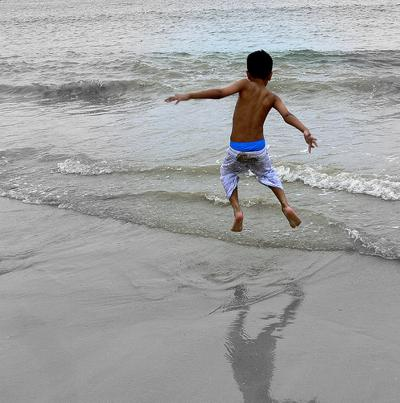person: (166, 47, 317, 235)
